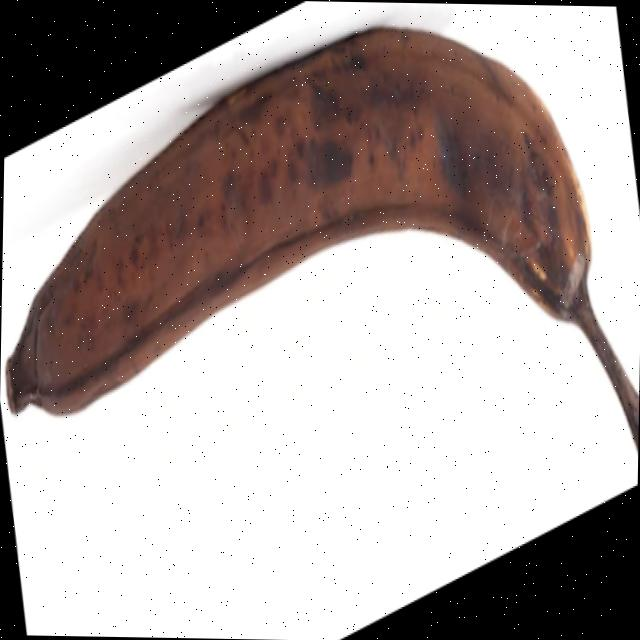Rotten: (3, 14, 640, 454)
